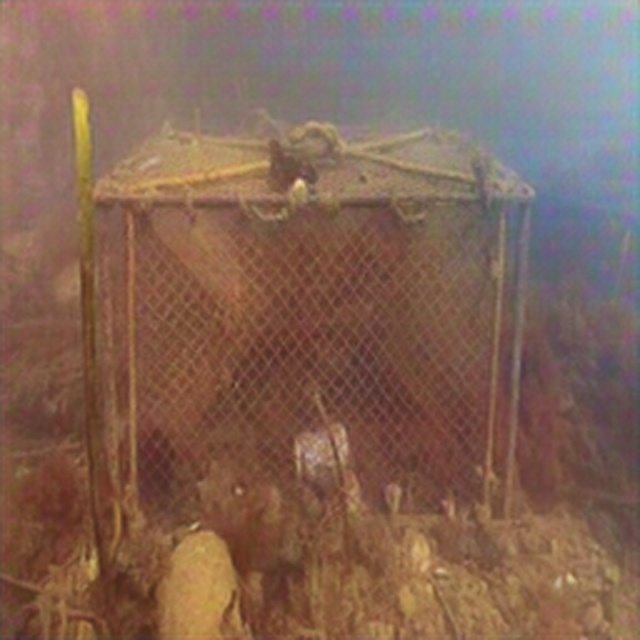mine: (91, 134, 537, 544)
